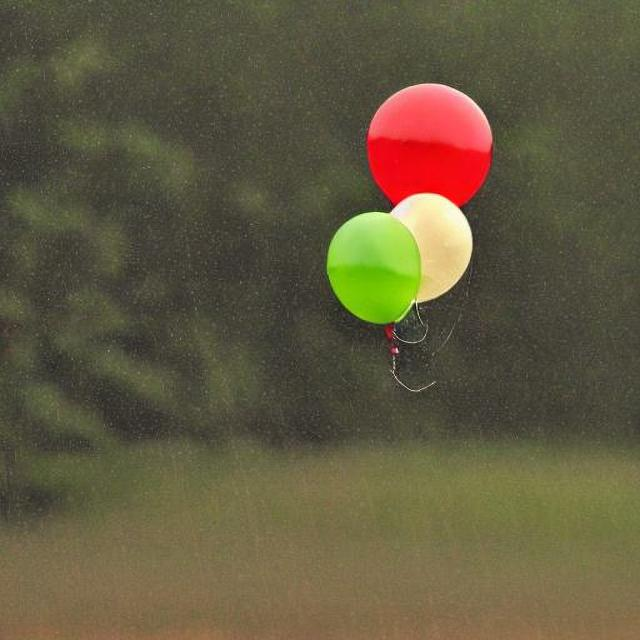balloon: (317, 192, 468, 333), (357, 84, 492, 232)
